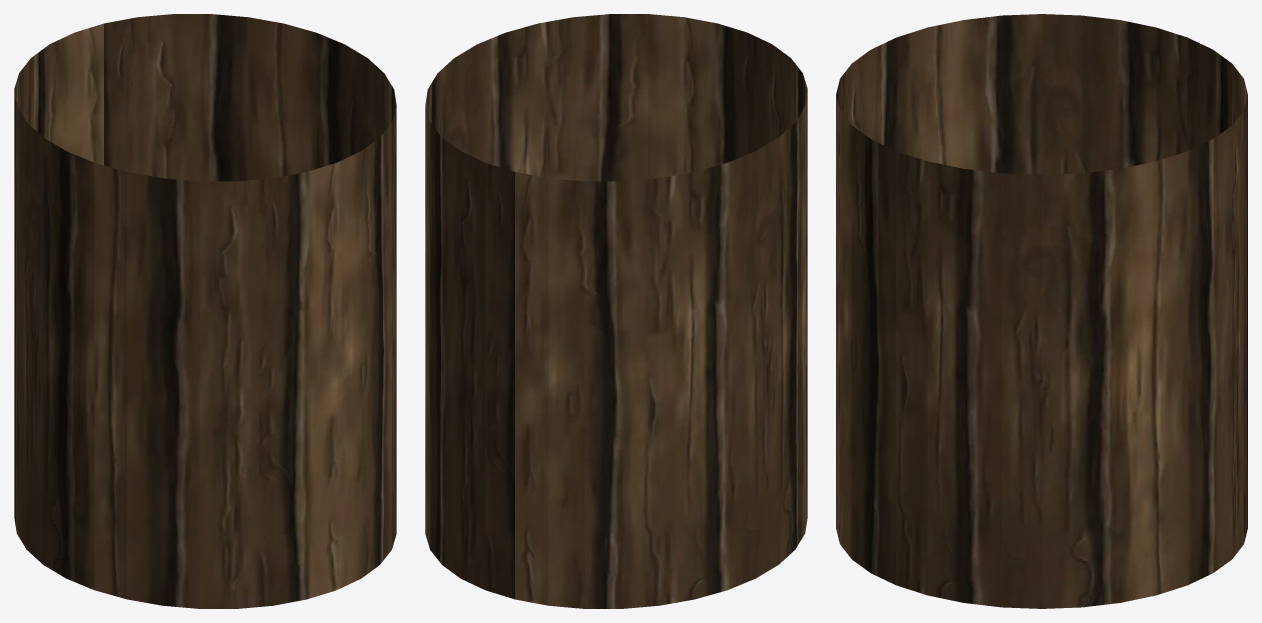
Rendered from barrel.fbx.
3 renders of one model, left to right at view 1: azimuth 30°, elevation 25°; view 2: azimuth 150°, elevation 25°; view 3: azimuth 270°, elevation 25°, orthographic.
Visible parts, largest first — view 1: Цилиндр; view 2: Цилиндр; view 3: Цилиндр.
Part boxes in pixels (left/top/right/bottom): Цилиндр: left=14, top=14, right=396, bottom=608; Цилиндр: left=425, top=14, right=807, bottom=608; Цилиндр: left=836, top=14, right=1247, bottom=608.
Bounding box in the file's own units: 428 × 539 × 463.
